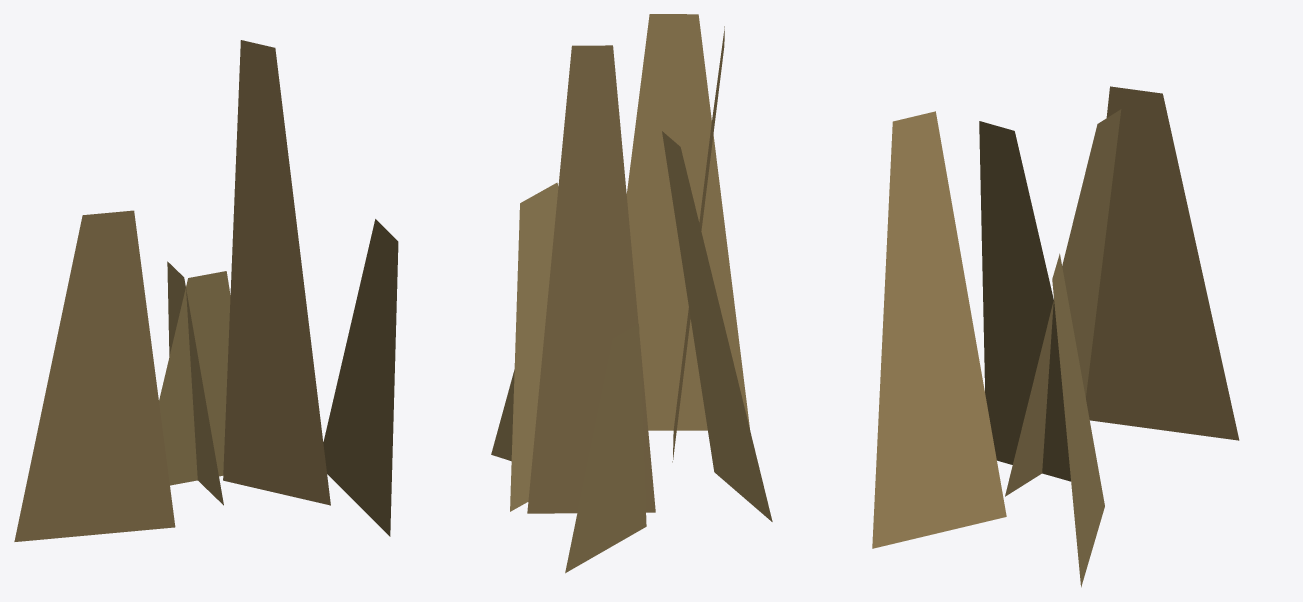
Rendered from cao.jue@subadult__autumn.glb.
The picture shows the model from 3 angles, left to right: view 1: azimuth 30°, elevation 25°; view 2: azimuth 150°, elevation 25°; view 3: azimuth 270°, elevation 25°; orthographic projection. The views are drawn at different scales.
Visible parts, largest first — view 1: cao.jue@subadult__autumn; view 2: cao.jue@subadult__autumn; view 3: cao.jue@subadult__autumn.
Boxes of the visible parts, x1,y1,x2,y2 form: cao.jue@subadult__autumn: (14,40,398,541); cao.jue@subadult__autumn: (491,14,772,573); cao.jue@subadult__autumn: (872,86,1239,587).
Bounding box in the file's own units: 0.5312 × 0.6252 × 0.4835.
